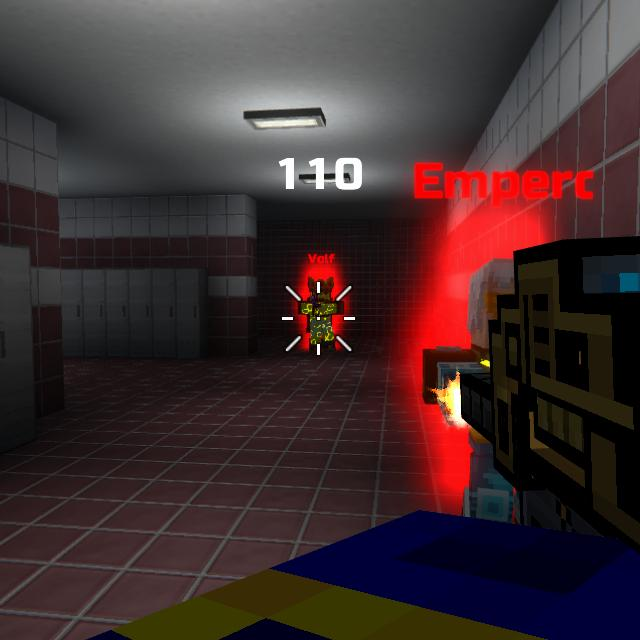Enemy: (419, 257, 573, 531), (296, 277, 343, 352)
